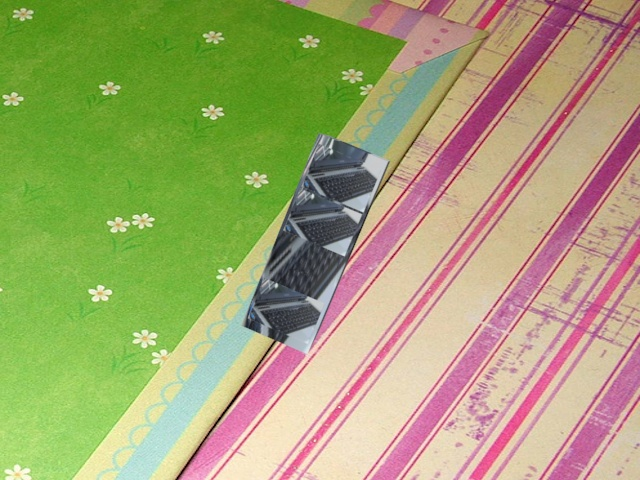file_cabinet: (240, 129, 392, 360)
